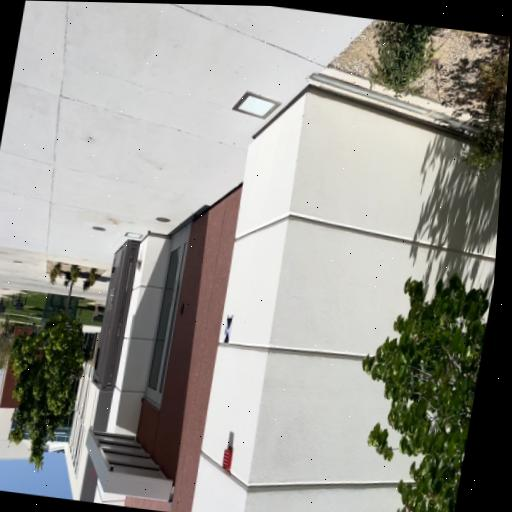target9: (222, 317, 233, 344)
